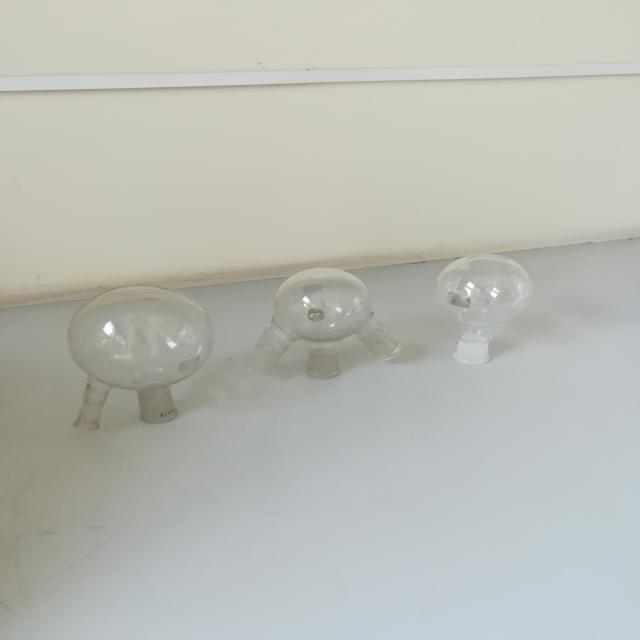Round_Bottom_Flask_Borosilicate_Glass_1_Neck: (432, 233, 548, 381)
Round_Bottom_Flask_Borosilicate_Glass_2_Neck: (46, 273, 236, 456)
Round_Bottom_Flask_Borosilicate_Glass_3_Neck: (230, 233, 412, 408)
